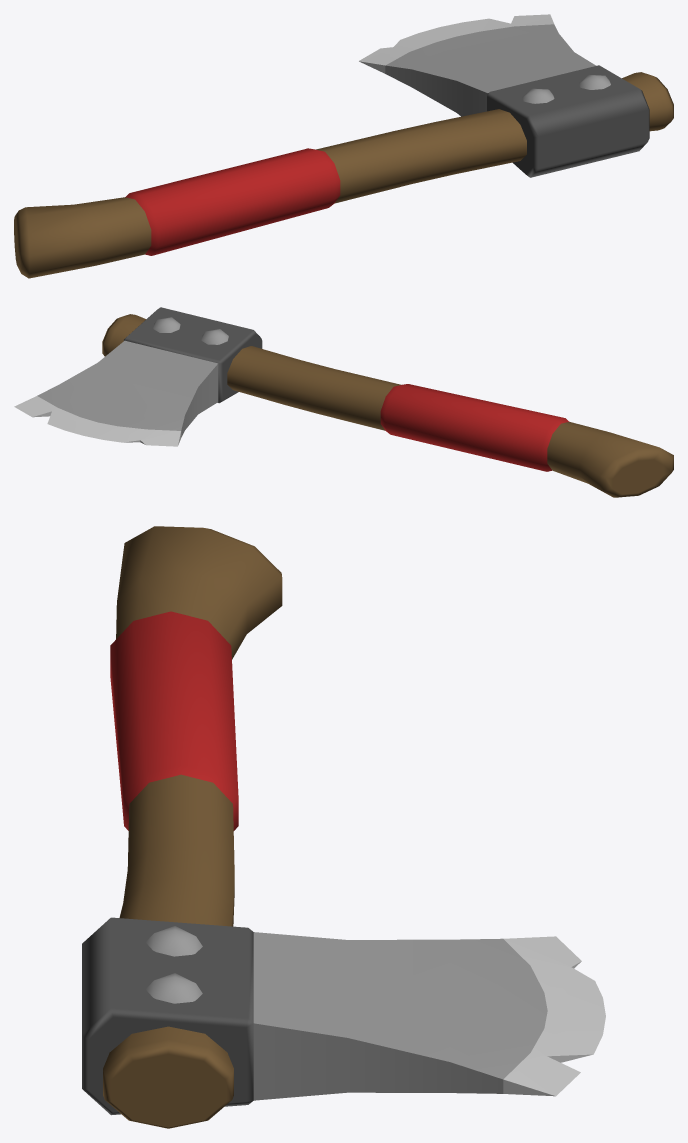
File: Entity_Axe.FBX
3 renders of one model, top to bottom at view 1: azimuth 30°, elevation 25°; view 2: azimuth 150°, elevation 25°; view 3: azimuth 270°, elevation 25°, orthographic. The views are drawn at different scales.
Visible parts, largest first — view 1: AxeHandle, AxeHead; view 2: AxeHandle, AxeHead; view 3: AxeHead, AxeHandle.
Boxes of the visible parts, bbox=[...] form: AxeHandle: bbox=[14, 72, 673, 278]; AxeHead: bbox=[359, 14, 649, 177]; AxeHandle: bbox=[102, 314, 673, 497]; AxeHead: bbox=[14, 307, 262, 446]; AxeHead: bbox=[82, 917, 605, 1115]; AxeHandle: bbox=[103, 526, 282, 1128].
Size of the model in its own units: 191 by 19.19 by 78.37.
